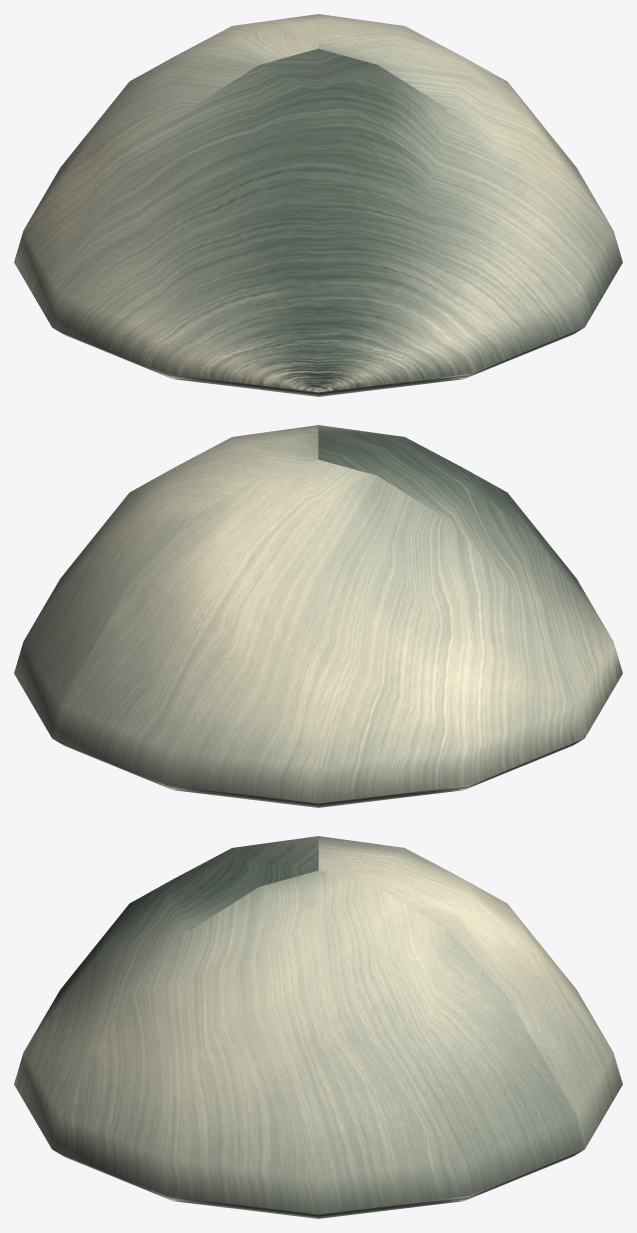
The model's file is Domeartwork.fbx.
3 views of the same model, one above another, from view 1: azimuth 30°, elevation 25°; view 2: azimuth 150°, elevation 25°; view 3: azimuth 270°, elevation 25° (orthographic).
Parts seen in each view (by area): view 1: artwork; view 2: artwork; view 3: artwork.
Part boxes in pixels (x1,y1,x2,y2): artwork: [14, 14, 622, 396]; artwork: [14, 425, 622, 807]; artwork: [14, 836, 622, 1218].
Size of the model in its own units: 1.68 by 0.6779 by 1.67.
